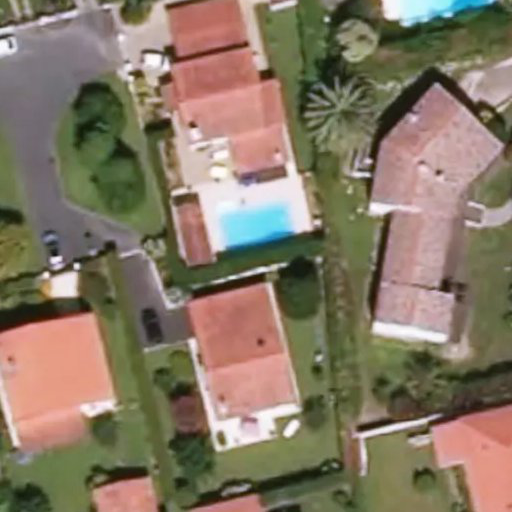pool: (214, 223, 297, 251)
